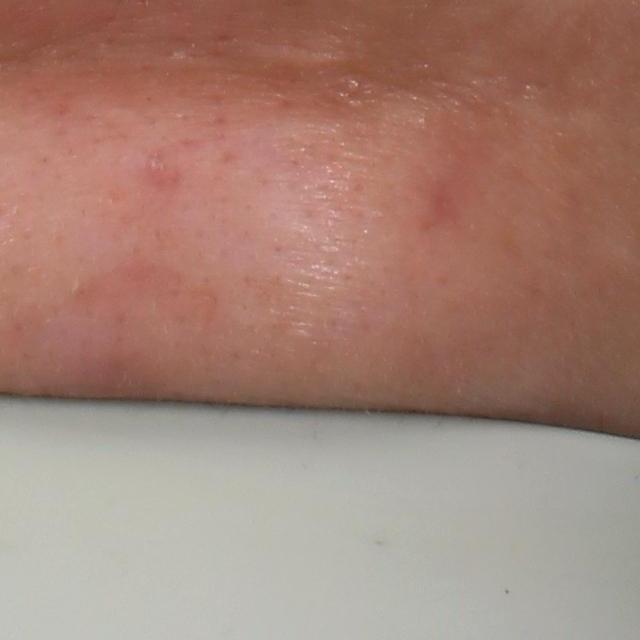hypertrophic_scar: (232, 33, 356, 76)
papule: (144, 155, 169, 182)
